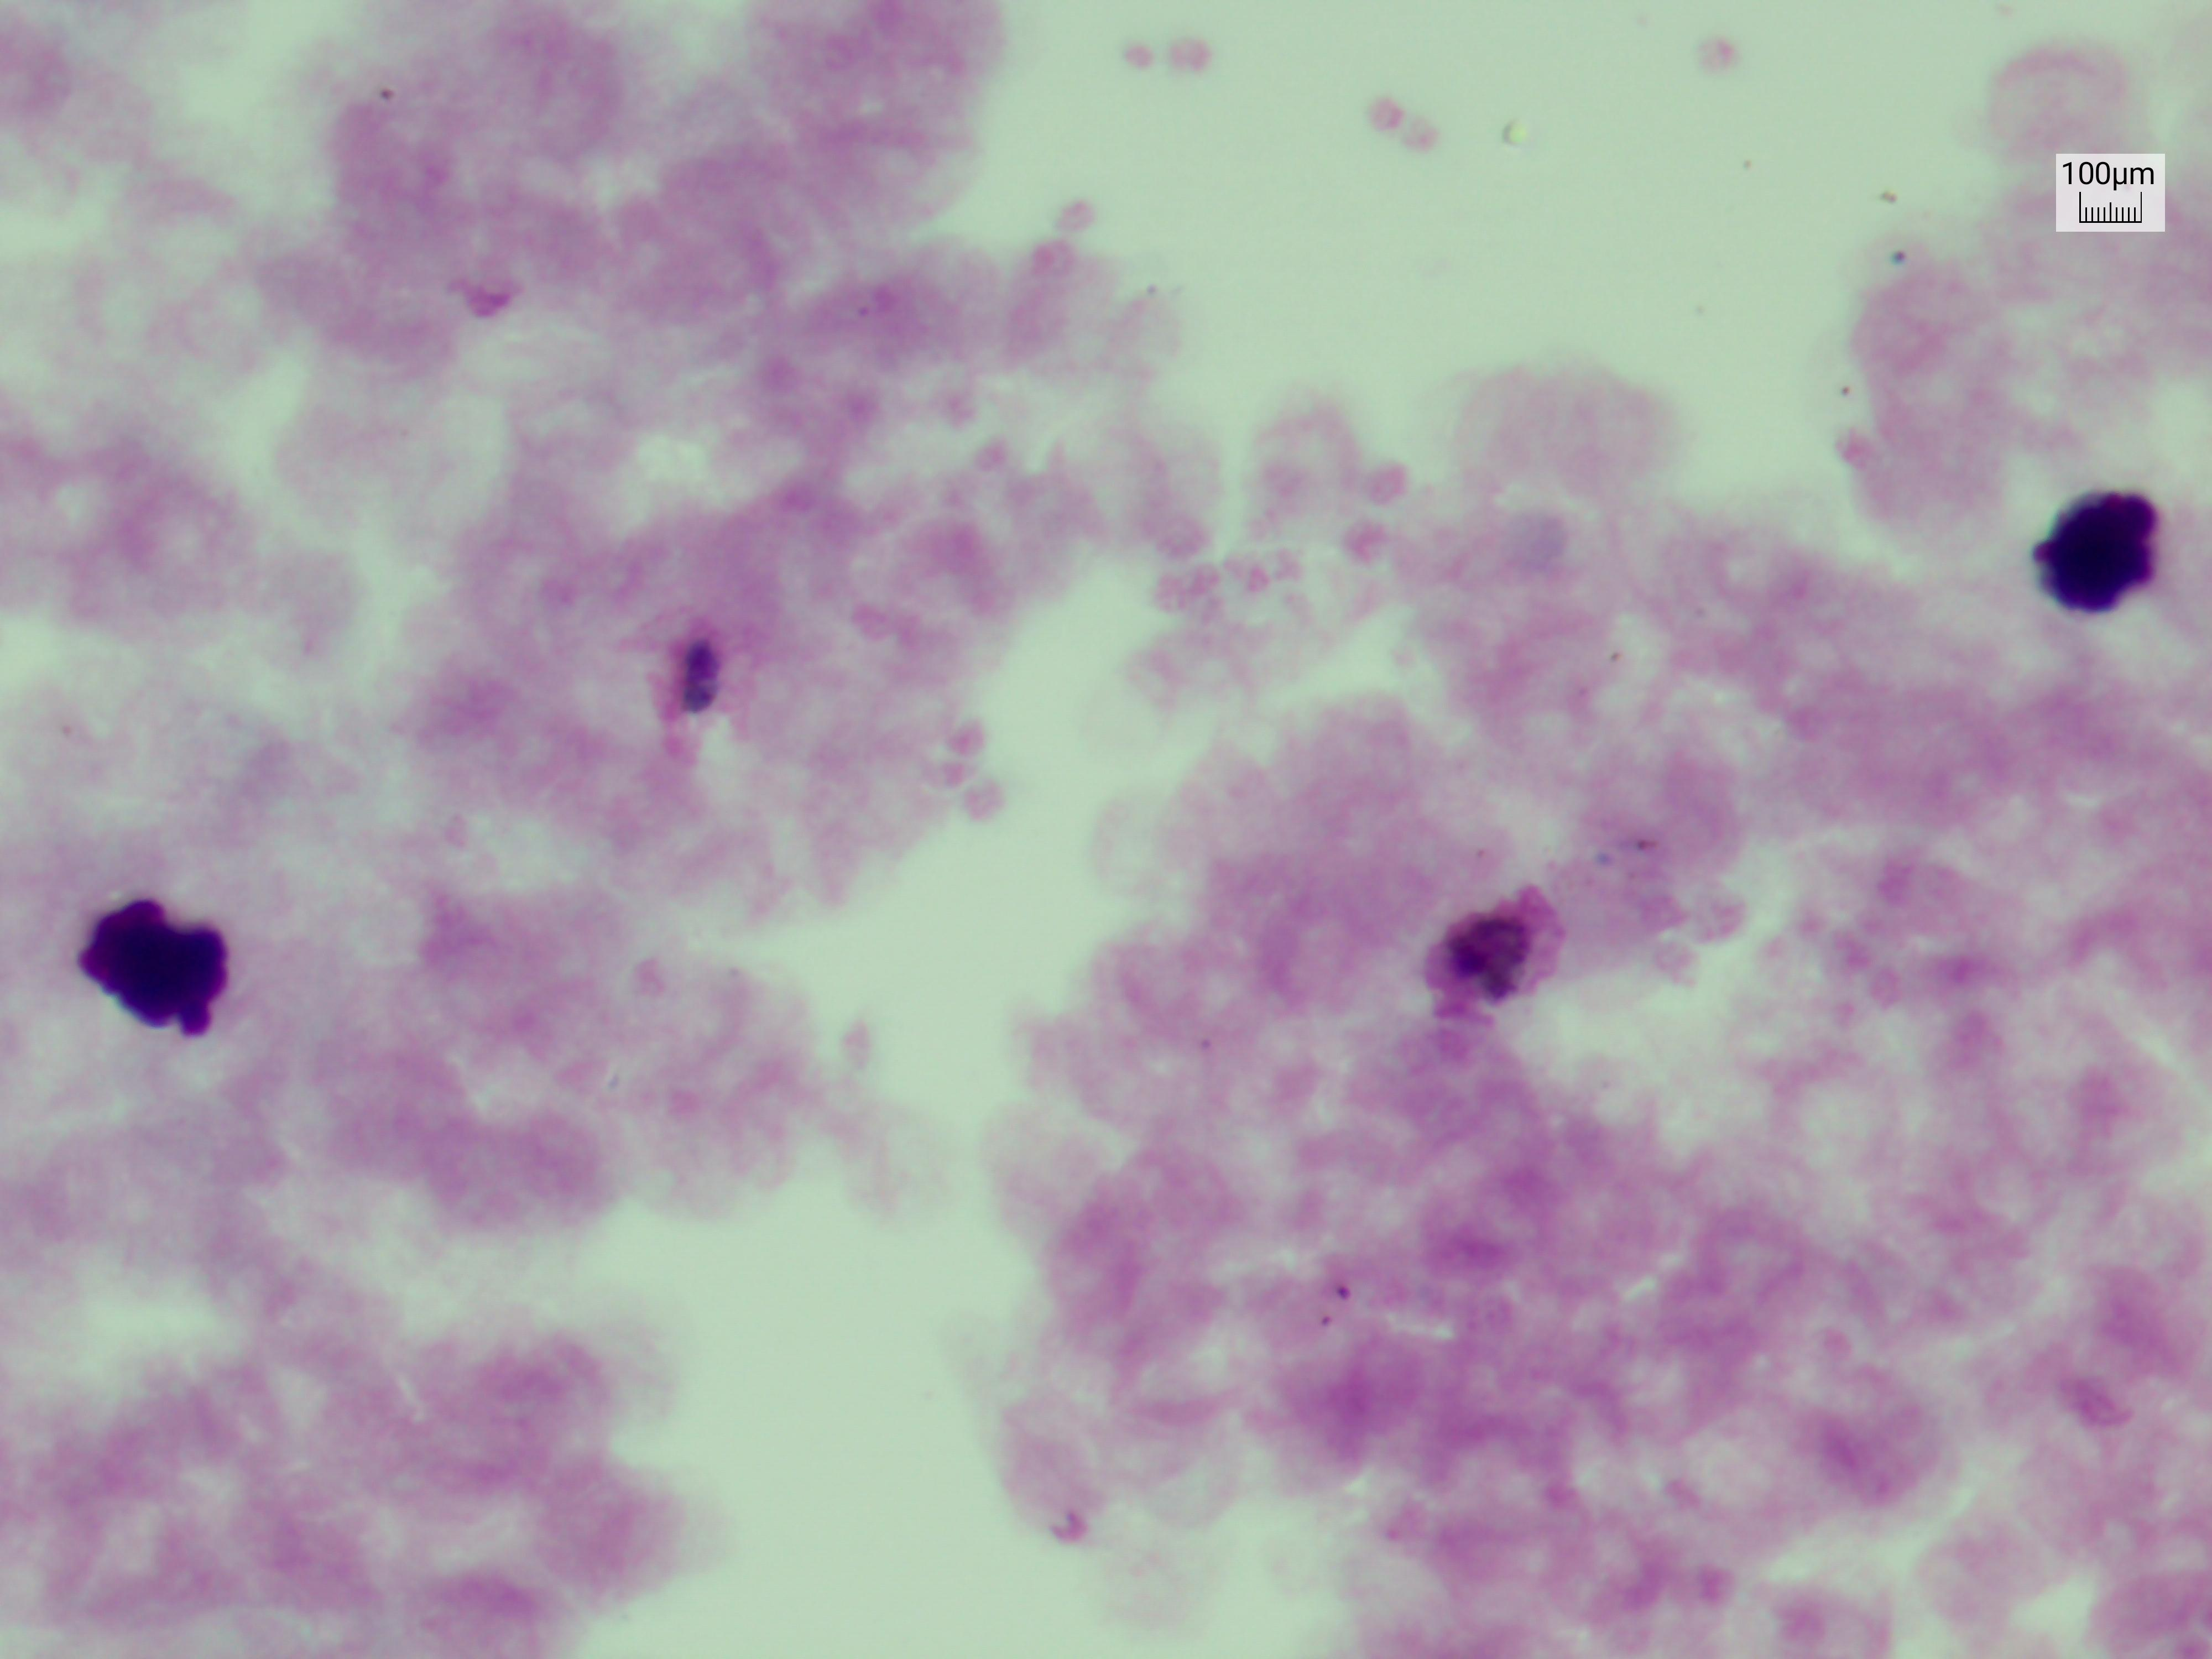p.vivax: (1416, 871, 1578, 1037), (641, 592, 759, 760), (1581, 805, 1665, 910), (1294, 1262, 1374, 1347), (1872, 216, 1942, 303), (354, 64, 432, 127)
